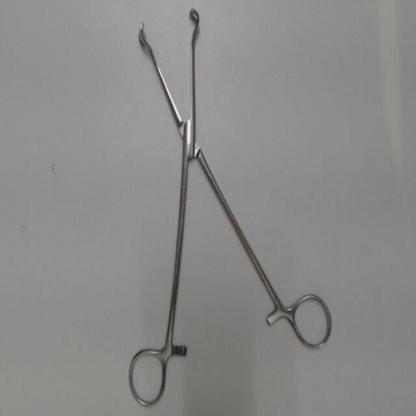8 Babcock Tissue Forceps: (125, 3, 336, 410)
